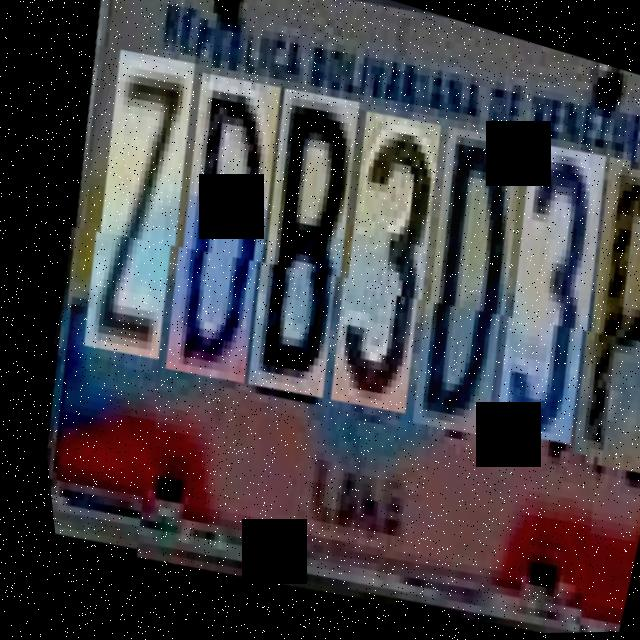3: (268, 110, 480, 427), (432, 146, 640, 463)
B: (185, 86, 400, 410)
D: (104, 67, 322, 393), (347, 128, 563, 453)
P: (506, 163, 640, 487)
Z: (22, 51, 236, 375)
